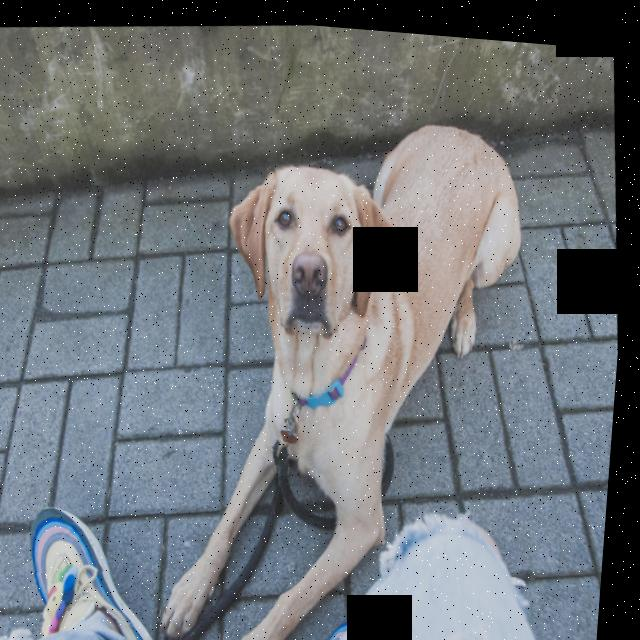shoe: (28, 491, 186, 640)
